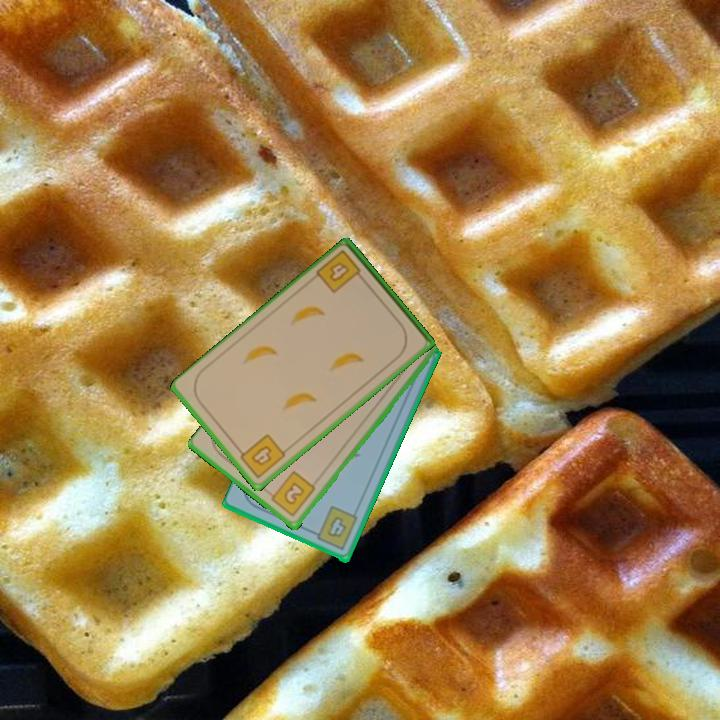2b: (264, 468, 319, 520)
4b: (234, 430, 289, 482), (313, 246, 368, 296), (308, 503, 360, 554)
